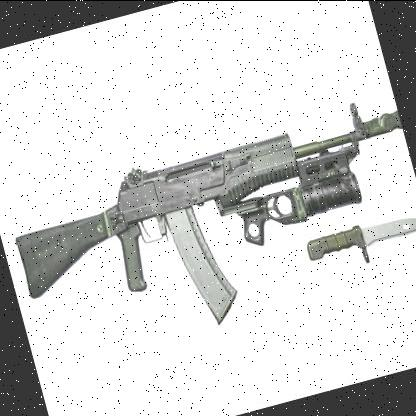rifle: (0, 82, 416, 367)
